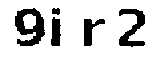2: (116, 4, 151, 54)
9: (13, 5, 45, 50)
i: (48, 2, 67, 54)
r: (79, 15, 109, 48)
